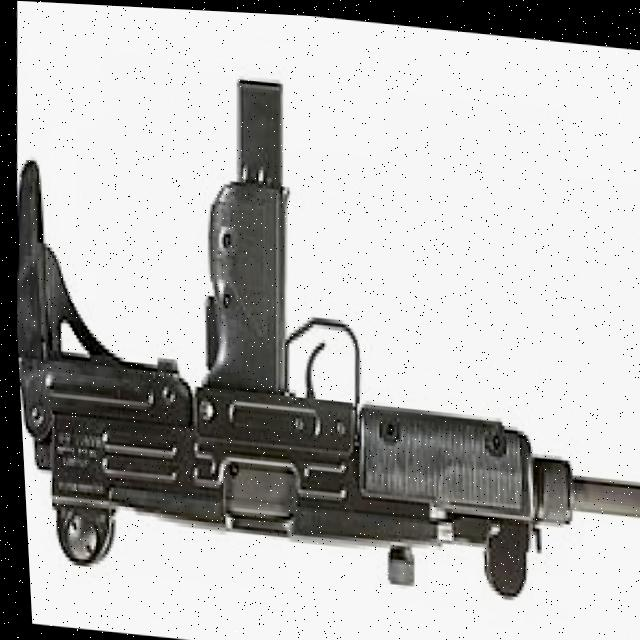firearm: (2, 51, 640, 626)
